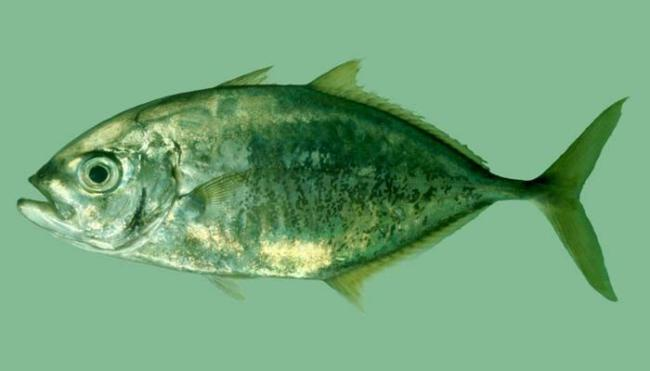fish: (17, 58, 628, 305)
